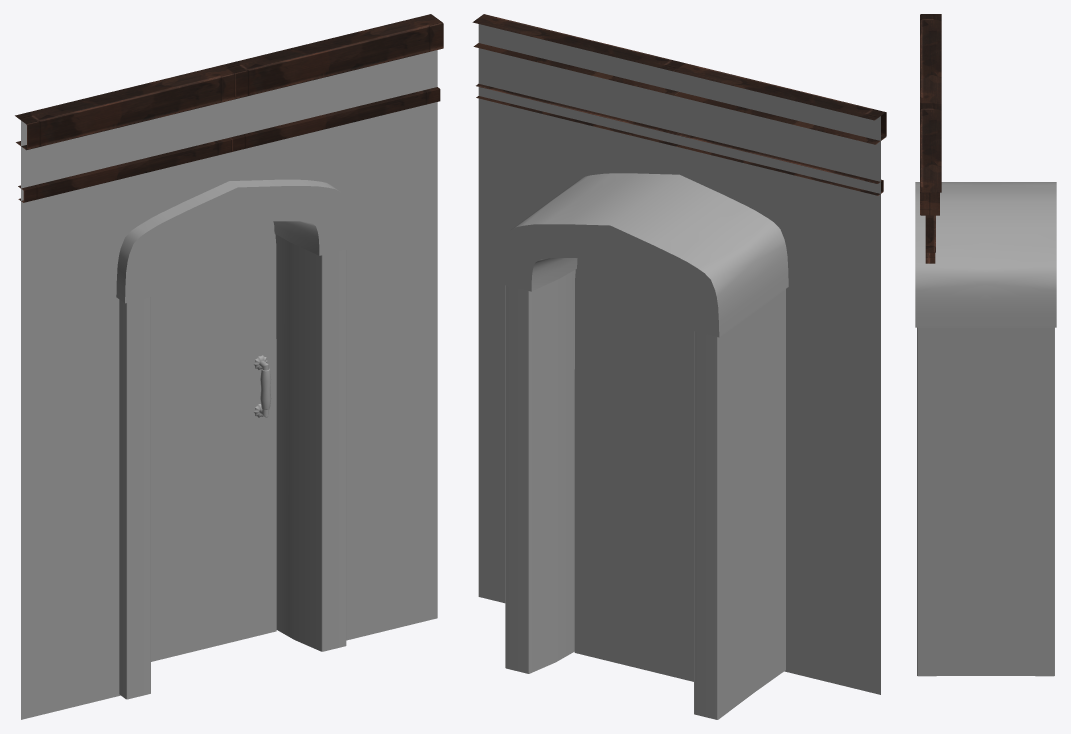
The model's file is door.fbx.
3 views of the same model, side by side, from view 1: azimuth 30°, elevation 25°; view 2: azimuth 150°, elevation 25°; view 3: azimuth 270°, elevation 25° (orthographic). The views are drawn at different scales.
Parts seen in each view (by area): view 1: polySurface50, Door_proem, Door_low; view 2: polySurface50, Door_proem, Door_low; view 3: Door_proem, polySurface50.
Boxes of the visible parts, <box> form: polySurface50: <box>15,14,443,719</box>; Door_proem: <box>116,179,350,699</box>; Door_low: <box>151,221,276,661</box>; polySurface50: <box>472,14,886,694</box>; Door_proem: <box>501,173,788,719</box>; Door_low: <box>574,258,693,681</box>; Door_proem: <box>915,182,1056,676</box>; polySurface50: <box>920,14,941,263</box>.
Bounding box in the file's own units: 200 × 275 × 66.88.
